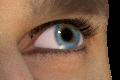eye: (55, 24, 81, 49)
